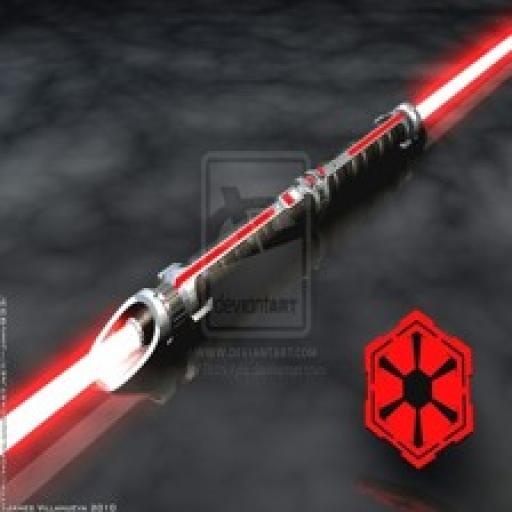lightsaber: (0, 32, 510, 457)
